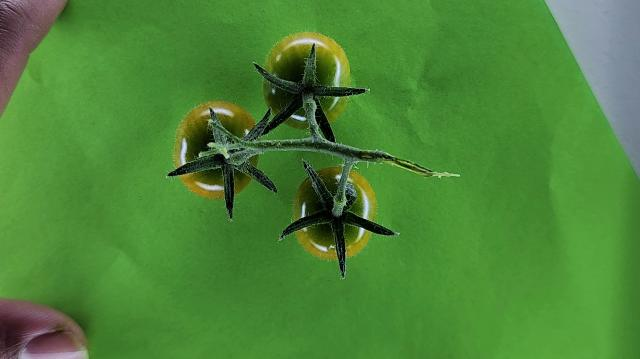Fully Grown: (262, 32, 353, 131), (172, 101, 261, 200), (292, 167, 378, 261)
